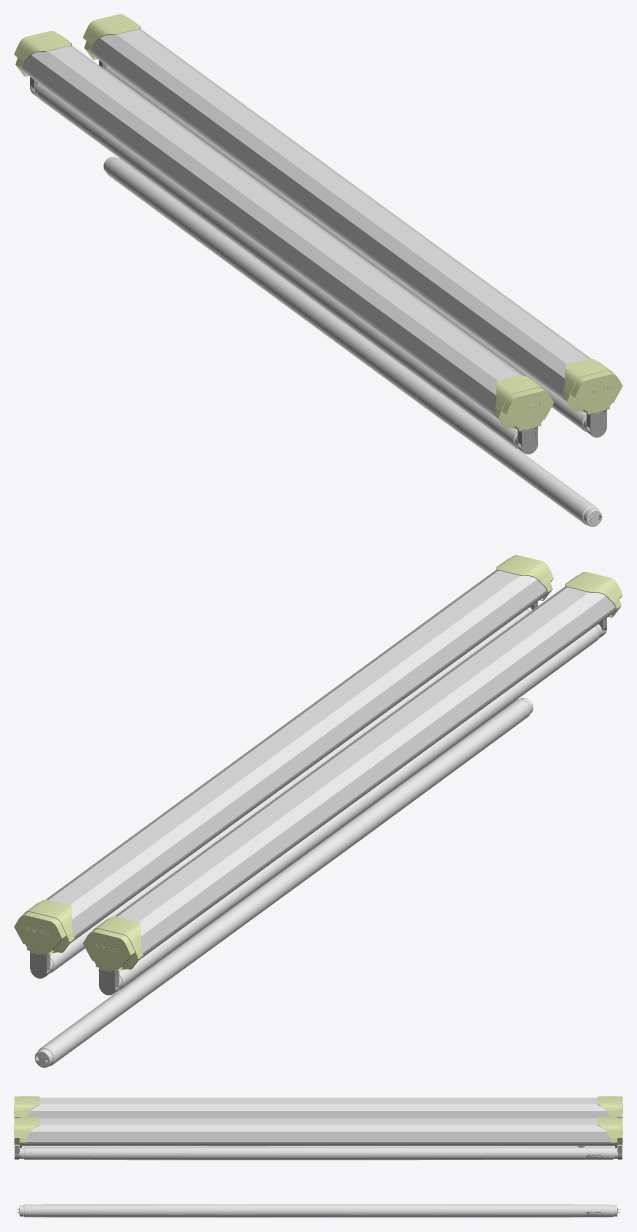
Rendered from tube light1.fbx.
The picture shows the model from 3 angles, top to bottom: view 1: azimuth 30°, elevation 25°; view 2: azimuth 150°, elevation 25°; view 3: azimuth 270°, elevation 25°; orthographic projection. The views are drawn at different scales.
Parts seen in each view (by area): view 1: Cube.006, Cube.011, Cylinder.010, Cylinder.012, Cylinder, Cylinder.004, Cylinder.005, Cylinder.009, Cube, Cube.004, Cube.001, Cube.007; view 2: Cube.006, Cube.011, Cylinder.010, Cylinder.012, Cylinder, Cylinder.004, Cylinder.005, Cylinder.009, Cube, Cube.004, Cube.001, Cube.007; view 3: Cube.011, Cube.006, Cylinder.010, Cylinder.012, Cylinder.005, Cylinder.009, Cube.004, Cube, Cube.007, Cube.001.
Boxes of the visible parts, box(x1,y1,x2,y2) form: Cube.006: box(20, 45, 522, 418); Cube.011: box(89, 28, 590, 402); Cylinder.010: box(106, 157, 598, 525); Cylinder.012: box(106, 158, 597, 524); Cylinder: box(37, 85, 518, 449); Cylinder.004: box(37, 85, 517, 448); Cylinder.005: box(107, 68, 587, 432); Cylinder.009: box(108, 68, 586, 431); Cube: box(15, 33, 552, 428); Cube.004: box(84, 16, 620, 412); Cube.001: box(14, 31, 553, 430); Cube.007: box(83, 14, 622, 414); Cube.006: box(114, 586, 616, 959); Cube.011: box(46, 569, 547, 943); Cylinder.010: box(38, 698, 530, 1066); Cylinder.012: box(39, 699, 530, 1065); Cylinder: box(118, 626, 599, 990); Cylinder.004: box(119, 626, 599, 989); Cylinder.005: box(49, 609, 529, 973); Cylinder.009: box(50, 609, 528, 972); Cube: box(84, 574, 621, 969); Cube.004: box(16, 557, 552, 953); Cube.001: box(83, 572, 622, 971); Cube.007: box(14, 555, 553, 955); Cube.011: box(22, 1118, 614, 1146); Cube.006: box(27, 1097, 609, 1118); Cylinder.010: box(23, 1204, 613, 1217); Cylinder.012: box(24, 1204, 612, 1217); Cylinder.005: box(23, 1146, 613, 1160); Cylinder.009: box(24, 1147, 612, 1159); Cube.004: box(19, 1117, 617, 1147); Cube: box(19, 1096, 617, 1116); Cube.007: box(14, 1117, 622, 1145); Cube.001: box(14, 1096, 622, 1117).
Bounding box in the file's own units: 538 × 647 × 3719.
